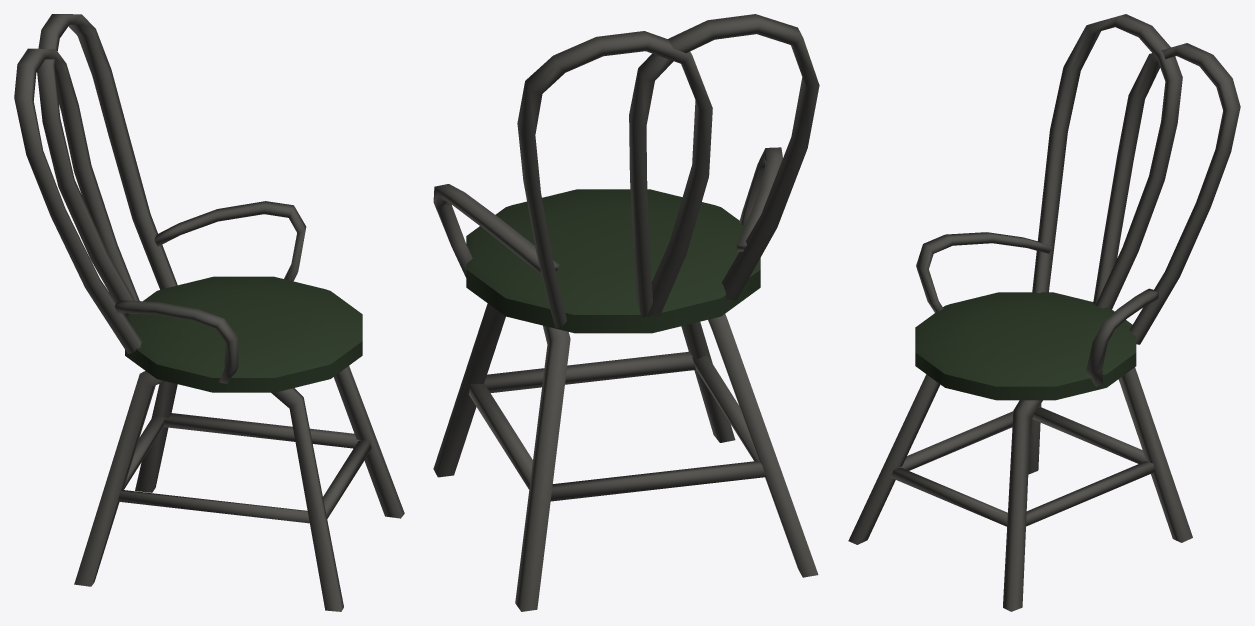
Rendered from ChairOutdoor.FBX.
The picture shows the model from 3 angles, left to right: view 1: azimuth 30°, elevation 25°; view 2: azimuth 150°, elevation 25°; view 3: azimuth 270°, elevation 25°; orthographic projection. The views are drawn at different scales.
Visible parts, largest first — view 1: Line039; view 2: Line039; view 3: Line039.
Boxes of the visible parts, box(x1,y1,x2,y2) form: Line039: box(14, 14, 404, 611); Line039: box(433, 14, 819, 611); Line039: box(848, 14, 1240, 611).
Bounding box in the file's own units: 15.28 × 20.65 × 16.17.
Materials: 1 (1 with a texture image).
